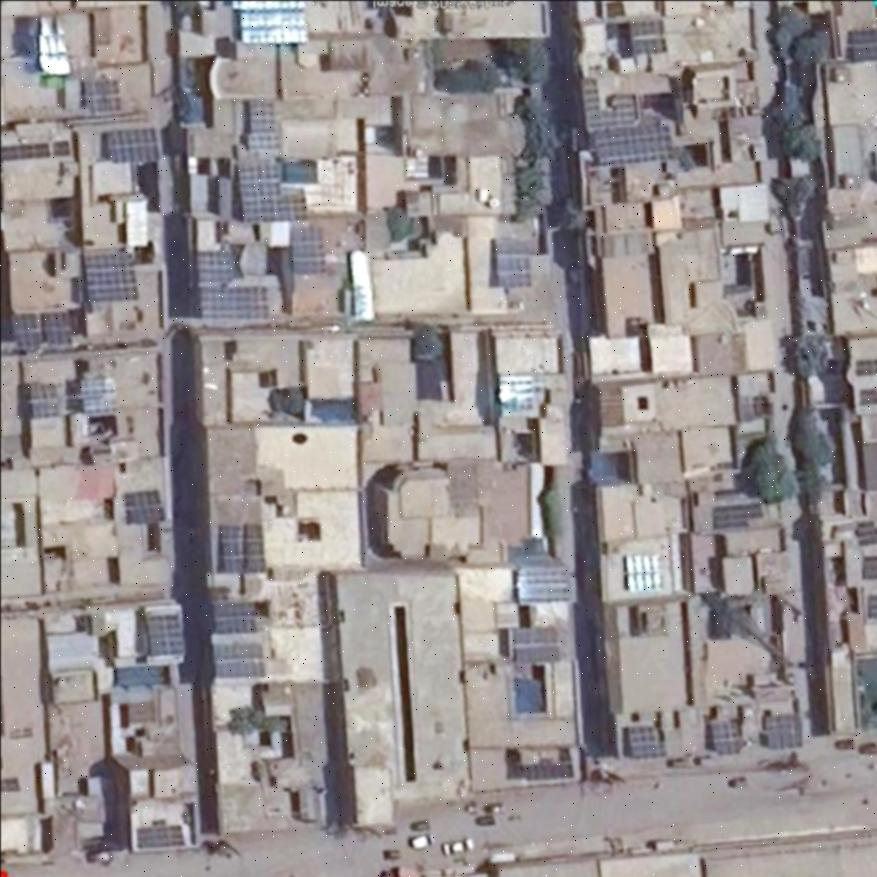Solarpanel: (239, 161, 308, 224), (588, 120, 673, 164), (226, 1, 307, 42), (581, 79, 634, 130), (85, 254, 138, 302), (219, 524, 266, 574), (199, 287, 268, 318), (515, 568, 570, 604), (512, 627, 560, 664), (287, 228, 325, 274), (106, 128, 158, 161), (244, 102, 279, 151), (211, 644, 264, 675), (148, 614, 188, 654), (0, 141, 69, 162), (495, 242, 529, 284), (210, 602, 254, 634), (80, 377, 116, 414), (712, 502, 763, 528), (627, 19, 667, 51), (623, 555, 659, 590), (627, 726, 665, 759), (193, 251, 233, 282), (765, 716, 801, 747), (129, 492, 163, 524), (499, 377, 533, 409), (138, 826, 184, 849), (29, 384, 61, 416), (846, 28, 876, 62), (712, 722, 742, 755), (10, 314, 40, 345), (44, 314, 70, 343), (855, 360, 876, 373), (860, 389, 876, 405)
